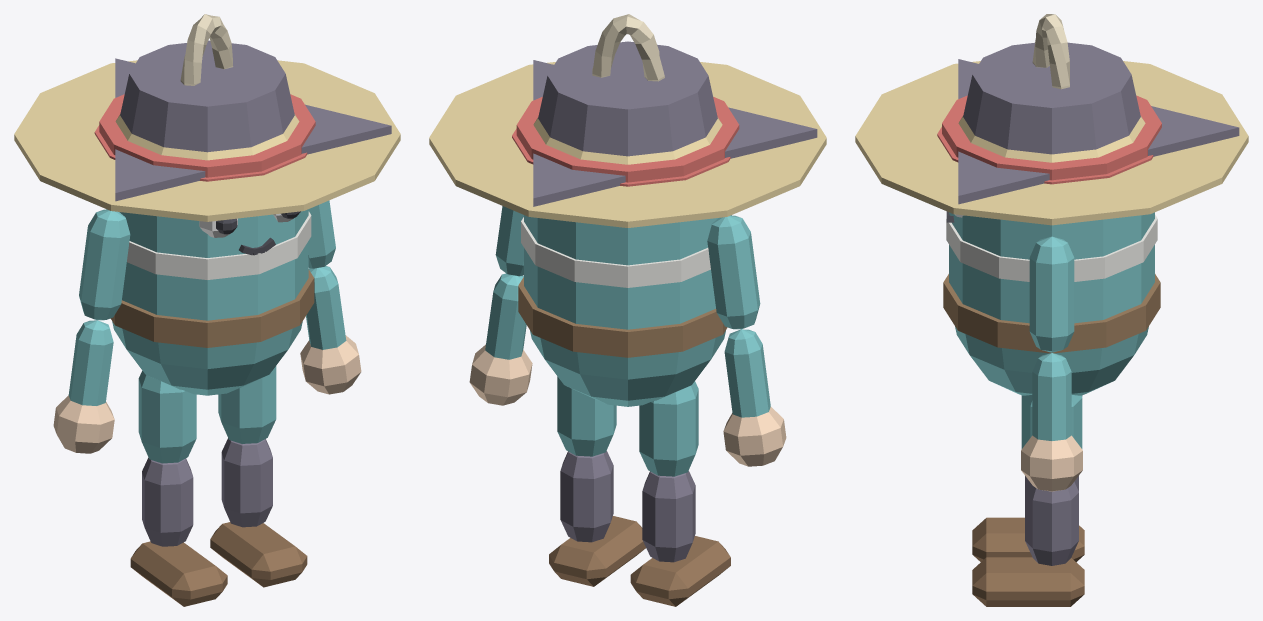
File: pill.fbx
3 views of the same model, side by side, from view 1: azimuth 30°, elevation 25°; view 2: azimuth 150°, elevation 25°; view 3: azimuth 270°, elevation 25° (orthographic). The views are drawn at different scales.
Visible parts, largest first — view 1: Pill_Hat_StrawBrim, Pill_Body, Pill_Hat_TricornCrown, Pill_Belt, Pill_Hat_TricornBrim, Pill_Hat_StrawBand, Pill_UpperArm_R, Pill_UpperLeg_R, Pill_Stripe, Pill_Foot_R, Pill_Foot_L, Pill_LowerLeg_R (+10 smaller); view 2: Pill_Hat_StrawBrim, Pill_Body, Pill_Hat_TricornCrown, Pill_Belt, Pill_Hat_TricornBrim, Pill_Hat_StrawBand, Pill_UpperArm_R, Pill_UpperLeg_R, Pill_Stripe, Pill_LowerLeg_L, Pill_LowerLeg_R, Pill_Foot_R (+10 smaller); view 3: Pill_Hat_StrawBrim, Pill_Body, Pill_Hat_TricornCrown, Pill_Hat_TricornBrim, Pill_Belt, Pill_Foot_L, Pill_UpperArm_L, Pill_Hat_StrawBand, Pill_Stripe, Pill_LowerLeg_L, Pill_LowerArm_L, Pill_Hand_L (+5 smaller).
Boxes of the visible parts, <box> form: Pill_Hat_StrawBrim: <box>14,60,400,221</box>; Pill_Body: <box>106,209,308,395</box>; Pill_Hat_TricornCrown: <box>120,40,294,152</box>; Pill_Belt: <box>110,269,314,347</box>; Pill_Hat_TricornBrim: <box>115,58,391,201</box>; Pill_Hat_StrawBand: <box>99,94,315,177</box>; Pill_UpperArm_R: <box>79,209,130,320</box>; Pill_UpperLeg_R: <box>138,371,196,463</box>; Pill_Stripe: <box>127,211,311,279</box>; Pill_Foot_R: <box>130,541,227,606</box>; Pill_Foot_L: <box>210,522,307,587</box>; Pill_LowerLeg_R: <box>142,457,193,546</box>; Pill_Hat_StrawBrim: <box>429,62,826,227</box>; Pill_Body: <box>524,215,731,406</box>; Pill_Hat_TricornCrown: <box>538,41,717,156</box>; Pill_Belt: <box>518,277,727,357</box>; Pill_Hat_TricornBrim: <box>533,60,817,206</box>; Pill_Hat_StrawBand: <box>516,97,739,182</box>; Pill_UpperArm_R: <box>707,215,760,329</box>; Pill_UpperLeg_R: <box>639,381,698,476</box>; Pill_Stripe: <box>521,217,710,287</box>; Pill_LowerLeg_L: <box>560,451,613,542</box>; Pill_LowerLeg_R: <box>642,471,695,562</box>; Pill_Foot_R: <box>630,536,730,606</box>; Pill_Hat_StrawBrim: <box>855,61,1248,225</box>; Pill_Body: <box>949,212,1154,395</box>; Pill_Hat_TricornCrown: <box>963,42,1140,154</box>; Pill_Hat_TricornBrim: <box>958,59,1239,204</box>; Pill_Belt: <box>943,274,1160,353</box>; Pill_Foot_L: <box>972,557,1084,606</box>; Pill_UpperArm_L: <box>1029,236,1074,352</box>; Pill_Hat_StrawBand: <box>942,95,1161,180</box>; Pill_Stripe: <box>946,215,1157,281</box>; Pill_LowerLeg_L: <box>1025,482,1078,565</box>; Pill_LowerArm_L: <box>1032,353,1071,440</box>; Pill_Hand_L: <box>1021,435,1082,491</box>.
Bounding box in the file's own units: 0.84 × 1.33 × 0.84.
